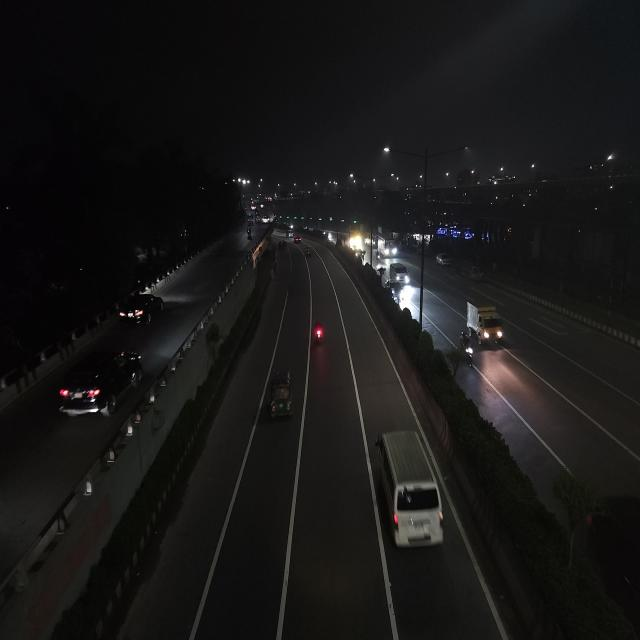bus: (378, 234, 400, 259), (347, 224, 362, 250)
car: (369, 427, 450, 564), (56, 346, 144, 426), (120, 290, 166, 327), (388, 262, 410, 286), (435, 251, 452, 268), (292, 234, 302, 245), (260, 216, 270, 226)
cng: (265, 368, 297, 423)
motorcycle: (457, 326, 477, 366), (312, 319, 326, 351), (245, 226, 253, 240), (304, 245, 312, 258)
truck: (464, 295, 506, 348)
